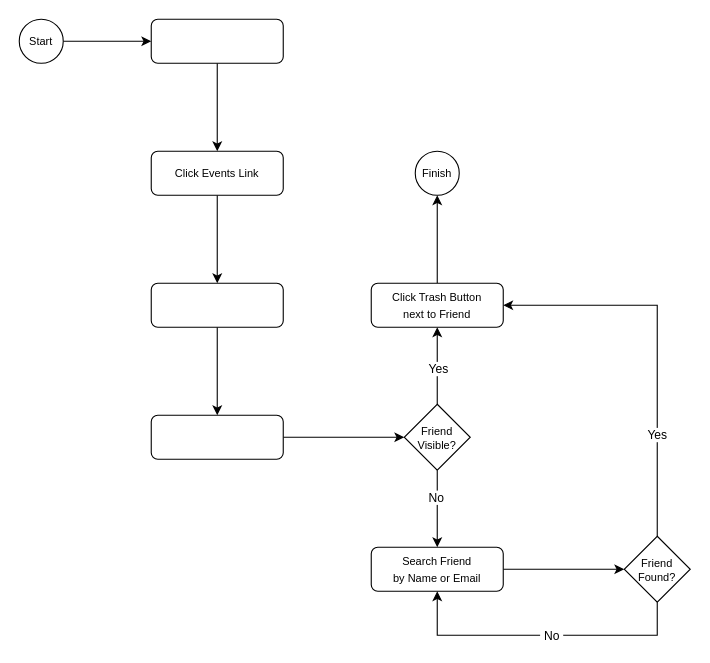
Image size: 710x663. Some labels were removed from this diagram. The box of each missing label's shape, as (x1, y1, x2, y2) in pixels:
Click Individual Event Link: (150, 282, 283, 327)
Find Friends List: (150, 414, 283, 459)
Select Nav Menu: (150, 18, 283, 63)
